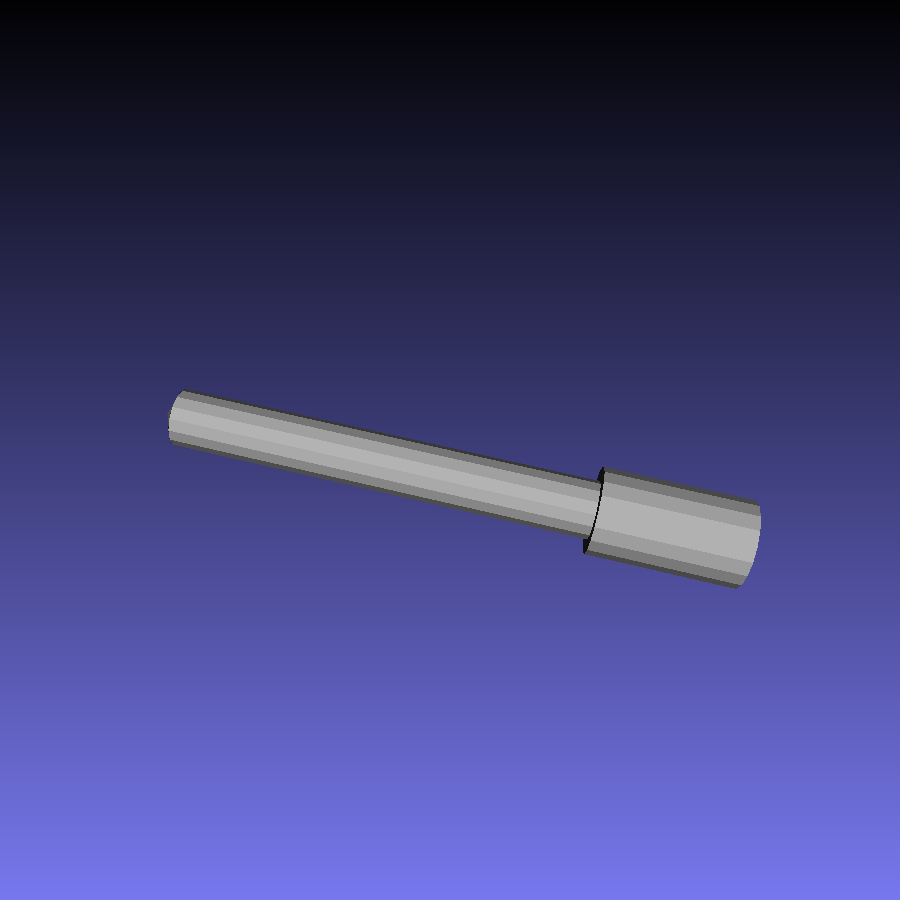cargo_g: (166, 390, 761, 589)
